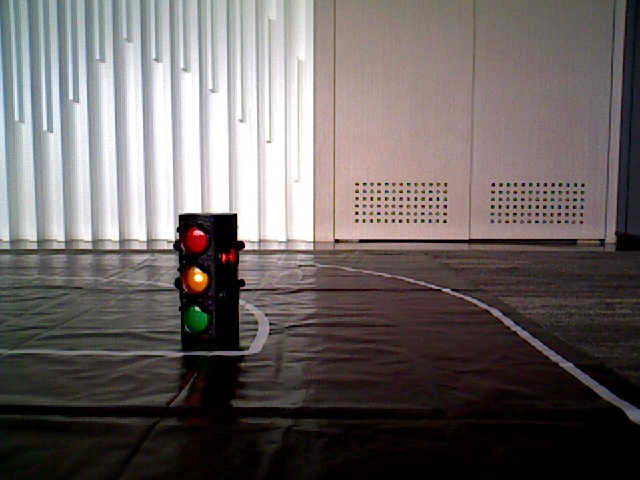yellow: (174, 218, 215, 337)
